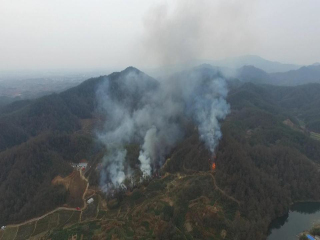smoke: (84, 4, 236, 197)
